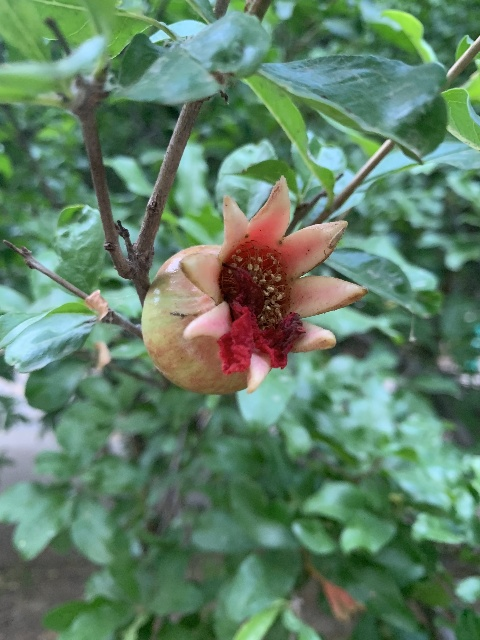early-fruit: (142, 177, 368, 396)
